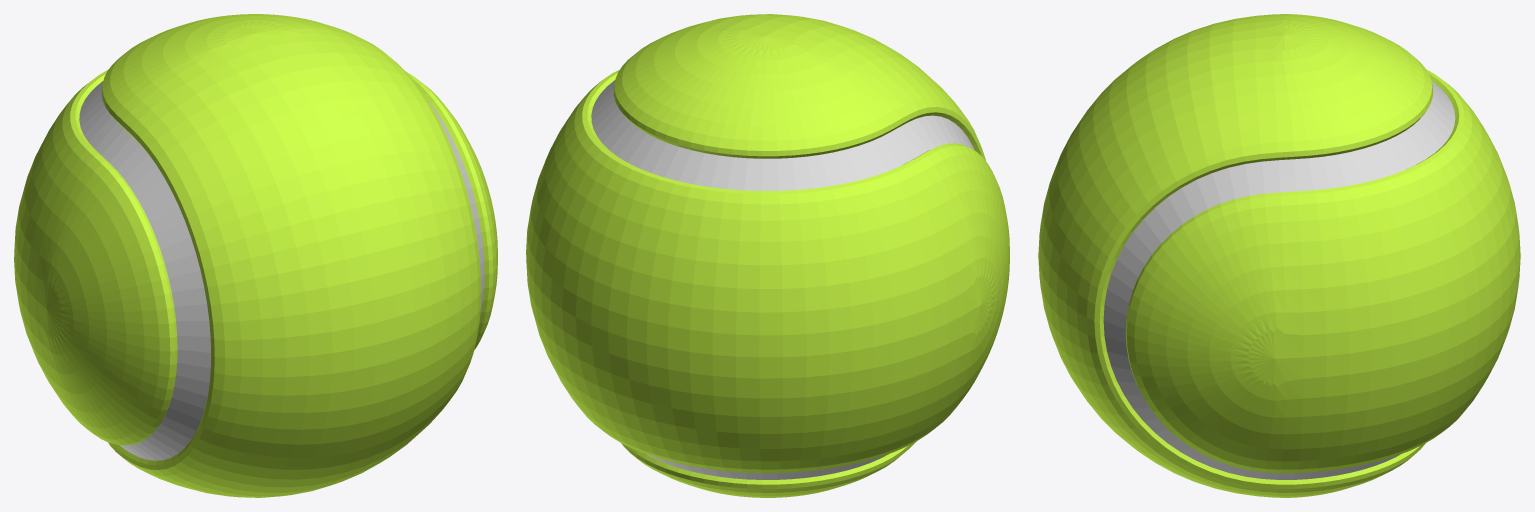
The model's file is tennis_ball.glb.
The picture shows the model from 3 angles, left to right: view 1: azimuth 30°, elevation 25°; view 2: azimuth 150°, elevation 25°; view 3: azimuth 270°, elevation 25°; orthographic projection.
Visible parts, largest first — view 1: Sphere.003_0, Sphere.004_1; view 2: Sphere.003_0, Sphere.004_1; view 3: Sphere.003_0, Sphere.004_1.
Boxes of the visible parts, x1,y1,x2,y2 form: Sphere.003_0: (14, 14, 497, 497); Sphere.004_1: (79, 81, 484, 460); Sphere.003_0: (526, 14, 1009, 497); Sphere.004_1: (591, 80, 974, 479); Sphere.003_0: (1038, 14, 1520, 497); Sphere.004_1: (1103, 80, 1455, 479).
Bounding box in the file's own units: 1.99 × 1.99 × 1.97.
